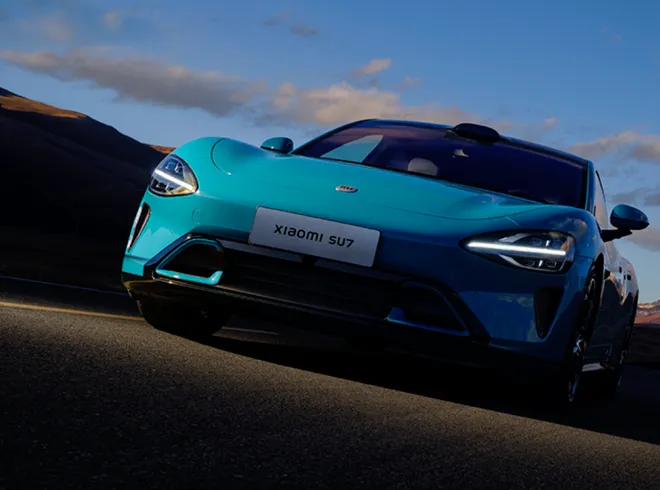su7: (119, 100, 646, 399)
